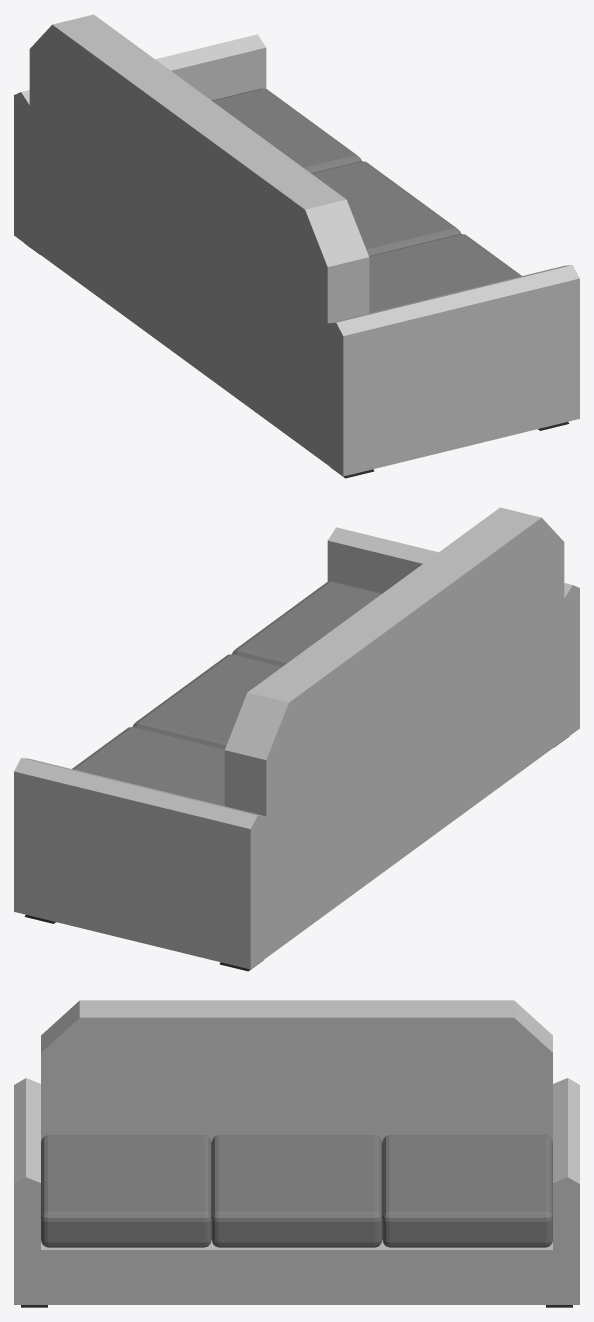
File: Sofa_10.fbx
The picture shows the model from 3 angles, top to bottom: view 1: azimuth 30°, elevation 25°; view 2: azimuth 150°, elevation 25°; view 3: azimuth 270°, elevation 25°; orthographic projection. The views are drawn at different scales.
Visible parts, largest first — view 1: Sofa_10; view 2: Sofa_10; view 3: Sofa_10.
Boxes of the visible parts, x1,y1,x2,y2 form: Sofa_10: (14,14,579,478); Sofa_10: (14,507,579,971); Sofa_10: (14,1000,579,1307).
Bounding box in the file's own units: 0.764 × 0.7568 × 1.84.
